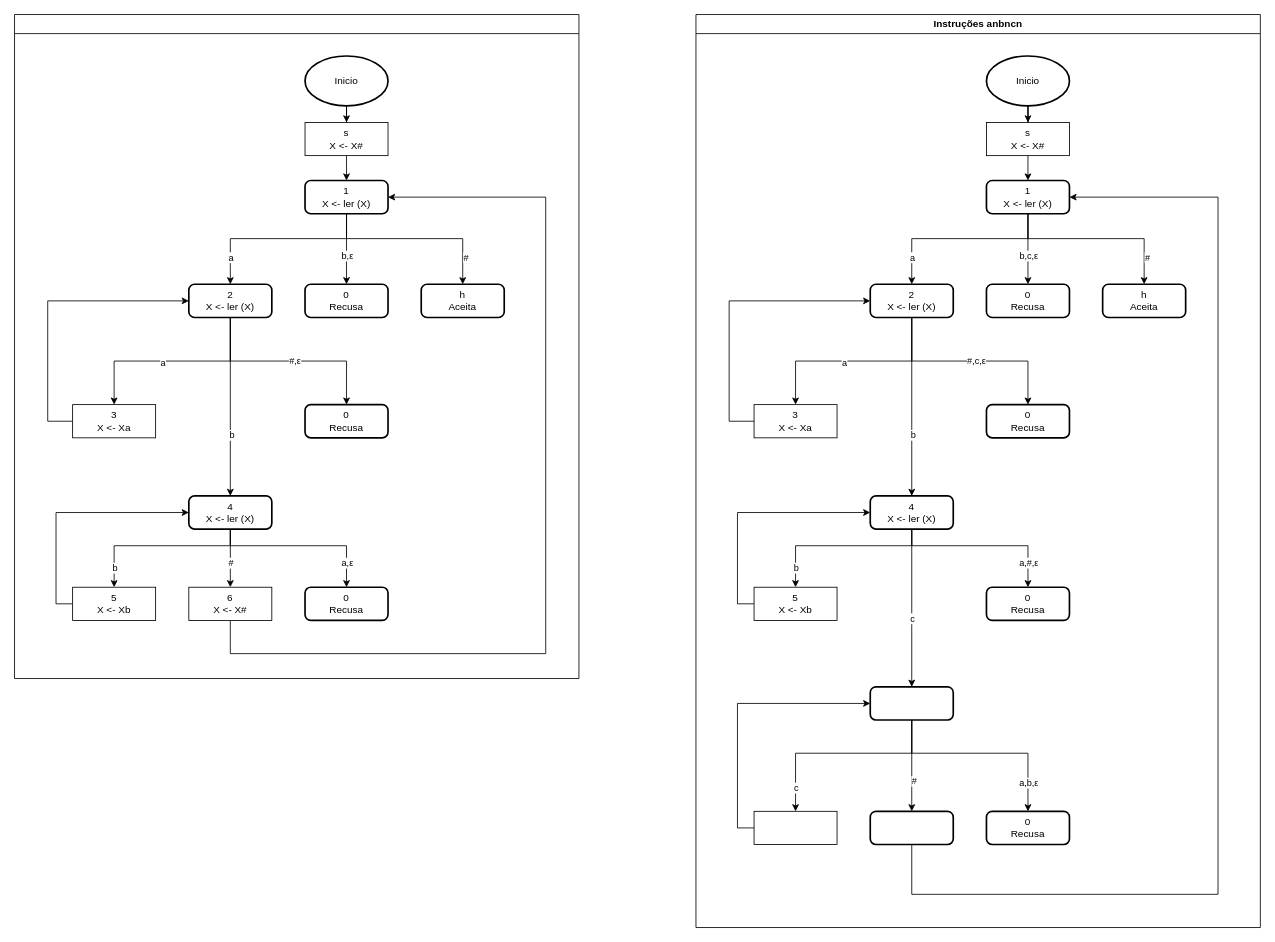
Image size: 1275x942. Some labels were removed from this diagram. The shapes that lost their labels are listed below. From the top down, each one's centre as x and y in pixels, then its label:
point (296, 346): Instruções anbn
point (911, 703): 6 X <- ler (X)
point (795, 827): 7 X <- Xc
point (911, 827): 8 X <- X#
